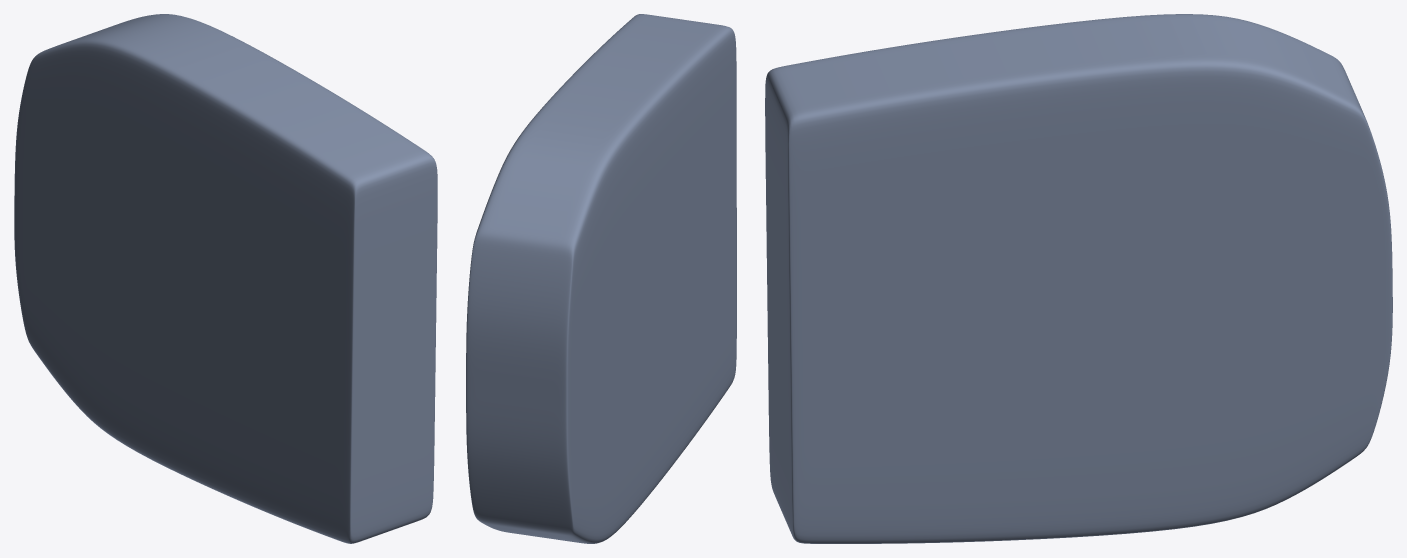
3 renders of one model, left to right at view 1: azimuth 30°, elevation 25°; view 2: azimuth 150°, elevation 25°; view 3: azimuth 270°, elevation 25°, orthographic. The views are drawn at different scales.
Visible parts, largest first — view 1: Cube.031; view 2: Cube.031; view 3: Cube.031.
Boxes of the visible parts, x1,y1,x2,y2 form: Cube.031: [14, 14, 437, 543]; Cube.031: [466, 14, 736, 543]; Cube.031: [765, 14, 1392, 543].
Size of the model in its own units: 0.0107 by 0.0232 by 0.0281.
